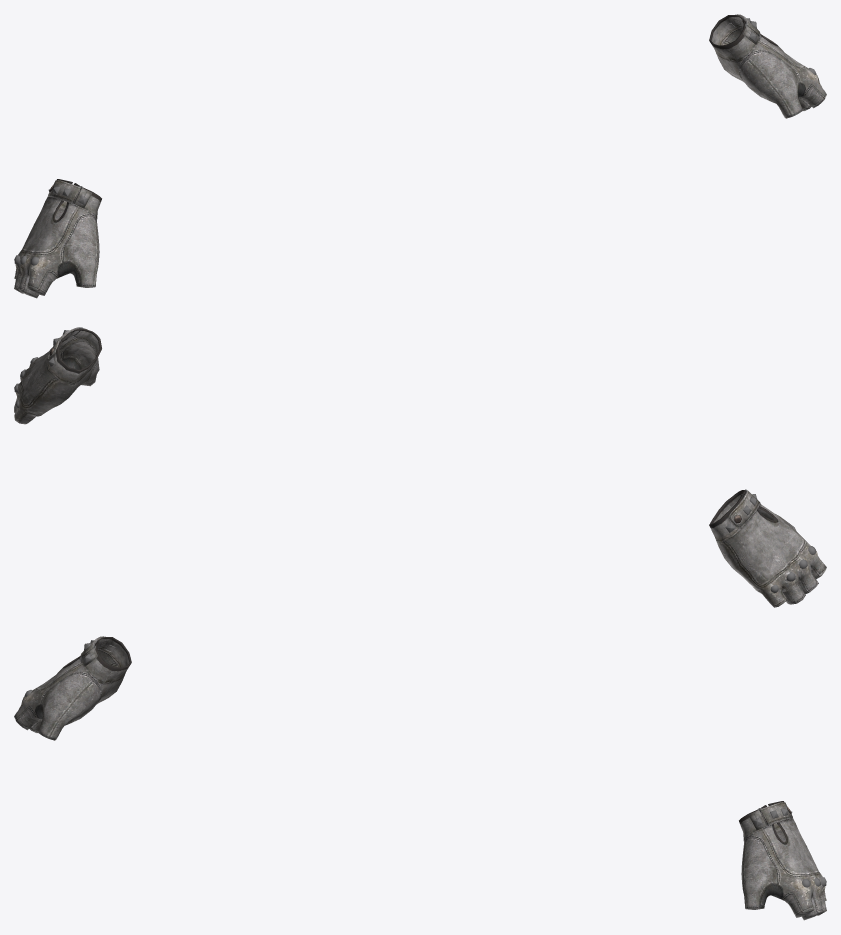
The model's file is SurvivorMale_Hands_Gloves_FingerlessStuds_LOD0.glb.
3 views of the same model, one above another, from view 1: azimuth 30°, elevation 25°; view 2: azimuth 150°, elevation 25°; view 3: azimuth 330°, elevation 25° (orthographic).
Visible parts, largest first — view 1: Hoodie; view 2: Hoodie; view 3: Hoodie.
Part boxes in pixels (bbox=[...]): Hoodie: bbox=[14, 14, 826, 298]; Hoodie: bbox=[14, 327, 826, 607]; Hoodie: bbox=[14, 636, 826, 920].
Bounding box in the file's own units: 1.28 × 0.1523 × 0.1551.
Materials: 1 (1 with a texture image).
